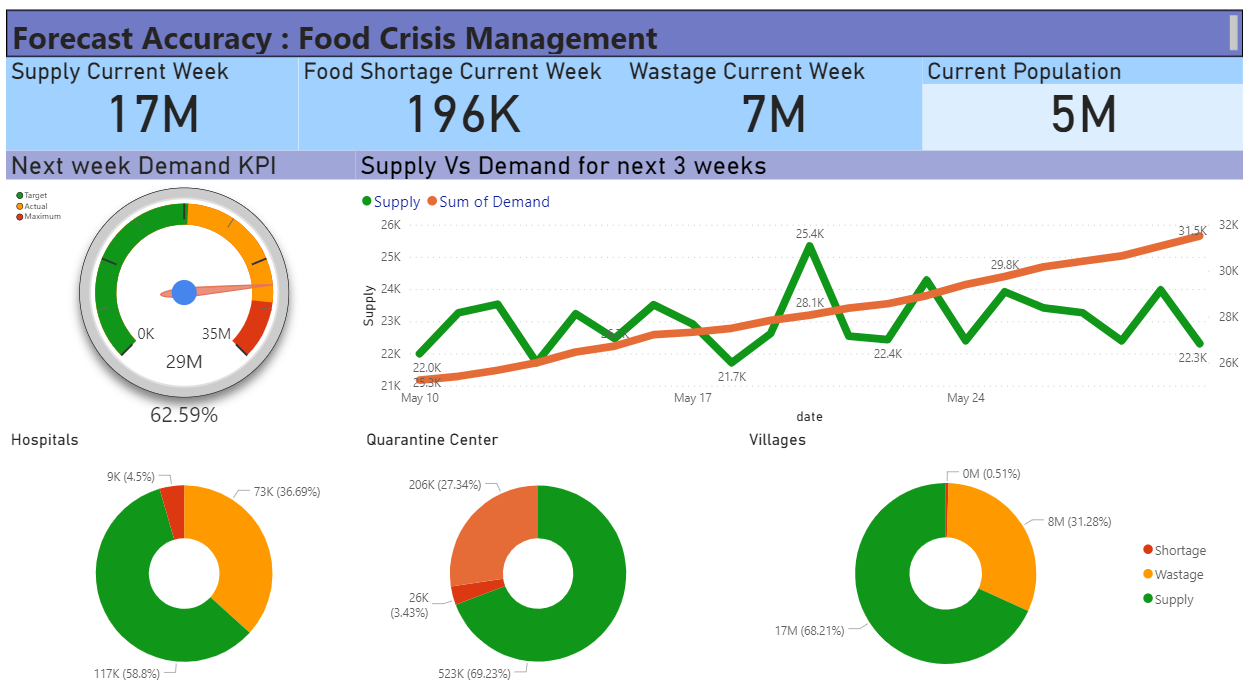

Layout of this report page (visuals, bound fields, positions):
{"tool":"powerbi","page":{"name":"Home Page","canvas":[1280,720],"ordinal":0},"visuals":[{"type":"donutChart","title":"Hospitals","fields":{"Y":["Sum(WastageVsDemand_Hospital.Wastage)","Sum(WastageVsDemand_Hospital.Supply)","Sum(WastageVsDemand_Hospital.Shortage)"]},"box":[0,441.6,368,278.4],"z":0},{"type":"dg5AAA90EFEFE747CB9357C4FC19B85A58","title":"Next week Demand KPI","fields":{"max":["Sum(Demand_W1.MaxRequired)"],"pointerValue":["Sum(Demand_W1.demands)"],"redEnd":["Sum(Demand_W1.HighDemand)"],"yellowEnd":["Sum(Demand_W1.lastweek)"],"percentage":["Sum(Demand_W1.Fulllfillment)"]},"box":[0,153.6,368,288],"z":1000},{"type":"donutChart","title":"Quarantine Center","fields":{"Y":["Sum(WastageVsDemand_QCenter.Supply)","Sum(WastageVsDemand_QCenter.Shortage)","Sum(WastageVsDemand_QCenter.Wastage)"]},"box":[368,441.6,364.8,278.4],"z":2000},{"type":"donutChart","title":"Villages","fields":{"Y":["Sum(WastageVsDemand_Village.Shortage)","Sum(WastageVsDemand_Village.Wastage)","Sum(WastageVsDemand_Village.Supply)"]},"box":[763.2,441.6,492.8,278.4],"z":3000},{"type":"lineChart","title":"Supply Vs Demand for next 3  weeks","fields":{"Category":["Sheet1.date"],"Y":["Sum(Sheet1.Meals)"],"Y2":["Sum(Sheet1.cnt)"]},"box":[361.6,153.6,918.4,288],"z":4000},{"type":"textbox","box":[0,8,1280,49.6],"z":5000},{"type":"card","title":"Supply Current Week","fields":{"Values":["Sum(WastageVsDemand.Supply)"]},"box":[0,57.6,302.4,96],"z":6000},{"type":"card","title":"Food Shortage Current Week","fields":{"Values":["Sum(WastageVsDemand.Shortage)"]},"box":[302.4,57.6,337.6,96],"z":7000},{"type":"card","title":"Wastage Current Week","fields":{"Values":["Sum(WastageVsDemand.Wastage)"]},"box":[640,57.6,308.8,96],"z":8000},{"type":"card","title":"Current Population","fields":{"Values":["Sum(cp.cp)"]},"box":[948.8,57.6,331.2,96],"z":9000}]}

Visuals, with their boxes in screenshot pixels (x1, y1, x2, y2), scaled from the page's 1280x720 canvas onto the 1245x691 screenshot:
"Hospitals" donutChart: x1=0, y1=424, x2=358, y2=690
"Next week Demand KPI" dg5AAA90EFEFE747CB9357C4FC19B85A58: x1=0, y1=147, x2=358, y2=424
"Quarantine Center" donutChart: x1=358, y1=424, x2=713, y2=690
"Villages" donutChart: x1=742, y1=424, x2=1222, y2=690
"Supply Vs Demand for next 3  weeks" lineChart: x1=352, y1=147, x2=1244, y2=424
textbox: x1=0, y1=8, x2=1244, y2=55
"Supply Current Week" card: x1=0, y1=55, x2=294, y2=147
"Food Shortage Current Week" card: x1=294, y1=55, x2=622, y2=147
"Wastage Current Week" card: x1=622, y1=55, x2=923, y2=147
"Current Population" card: x1=923, y1=55, x2=1244, y2=147
